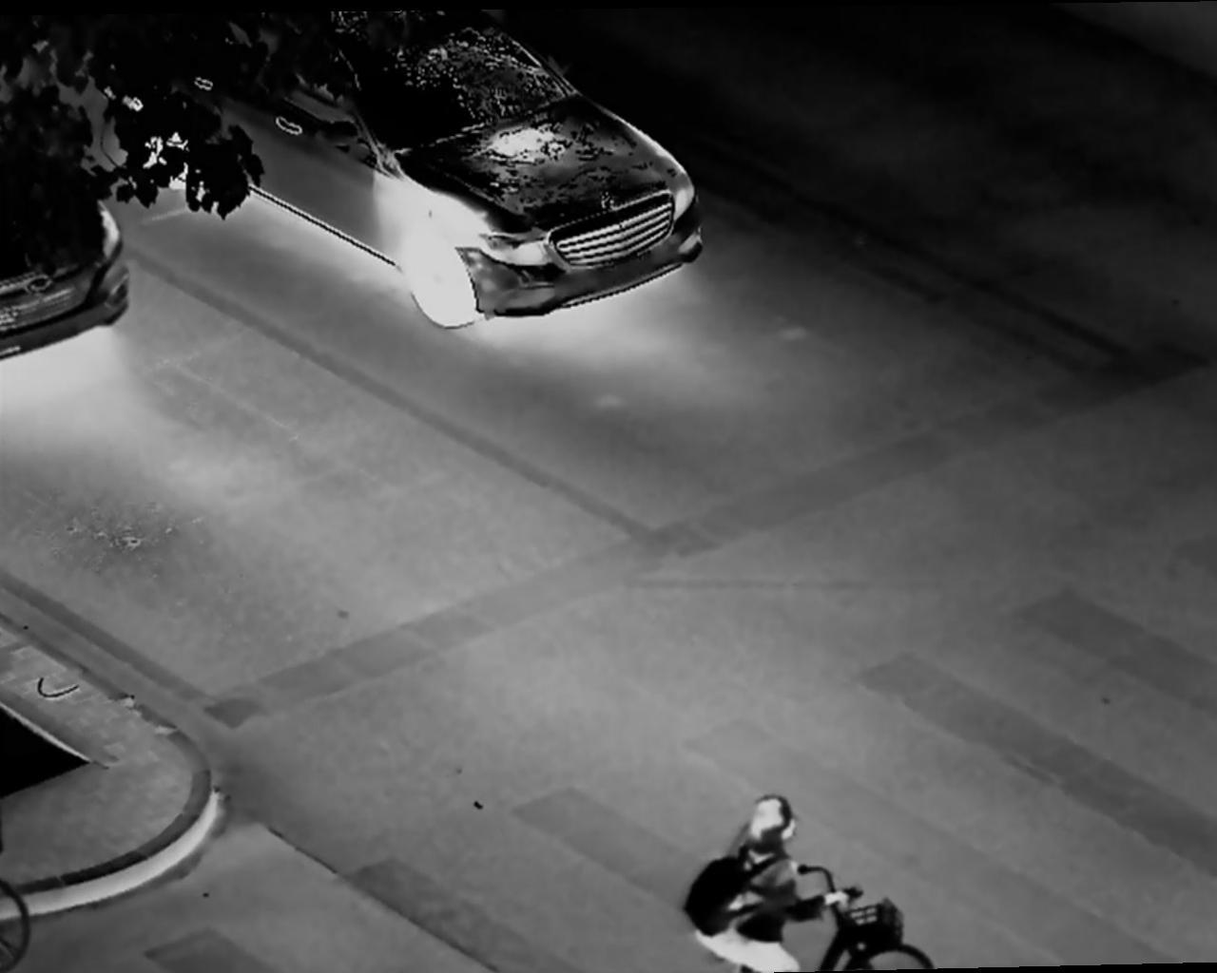person: (697, 792, 824, 973)
